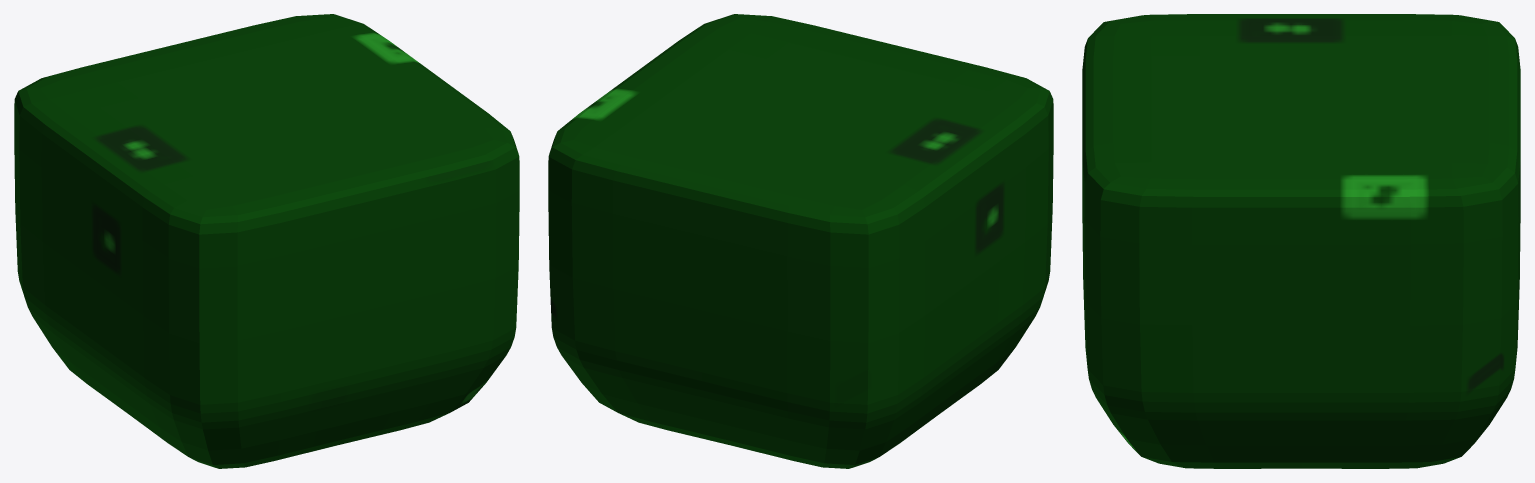
File: bush_2x2_00.glb
3 renders of one model, left to right at view 1: azimuth 30°, elevation 25°; view 2: azimuth 150°, elevation 25°; view 3: azimuth 270°, elevation 25°, orthographic. The views are drawn at different scales.
Parts seen in each view (by area): view 1: bush_2x2_00; view 2: bush_2x2_00; view 3: bush_2x2_00.
Boxes of the visible parts, box(x1,y1,x2,y2) form: bush_2x2_00: box(14, 14, 519, 468); bush_2x2_00: box(548, 14, 1053, 468); bush_2x2_00: box(1082, 14, 1520, 468).
Size of what is drawn, in the model's own units: 1.96 by 1.59 by 1.96.
Materials: 1 (1 with a texture image).
